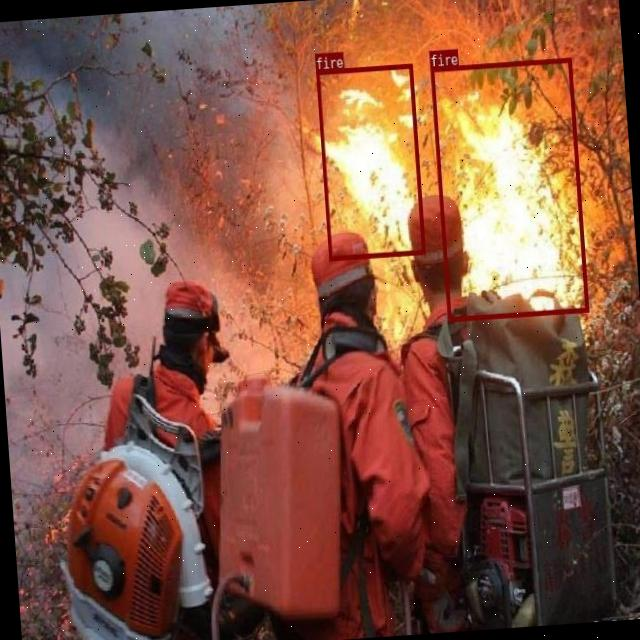fire: (429, 57, 588, 321), (316, 63, 424, 260)
